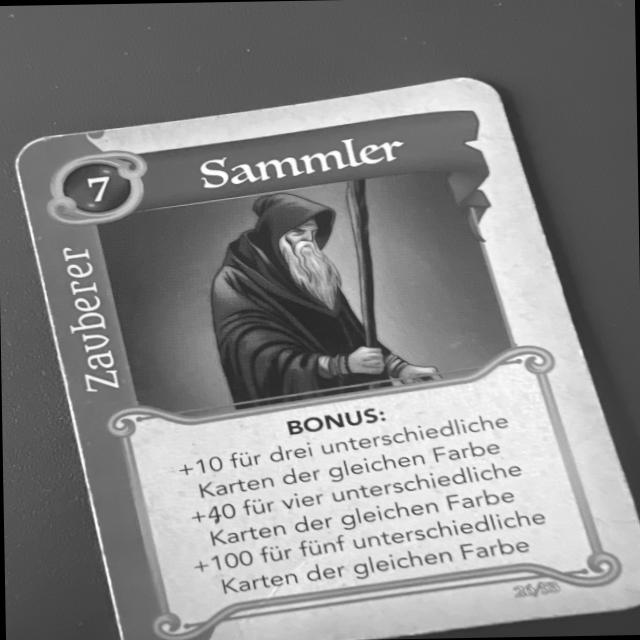Collector: (12, 71, 640, 640)
